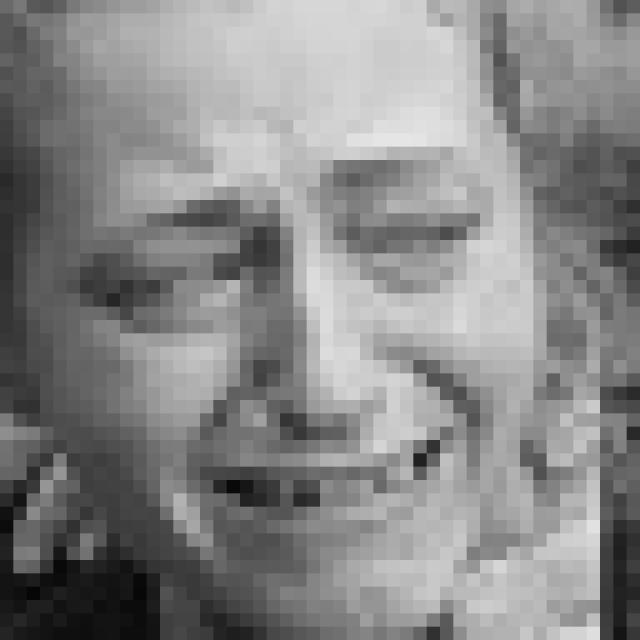sad: (74, 130, 497, 556)
